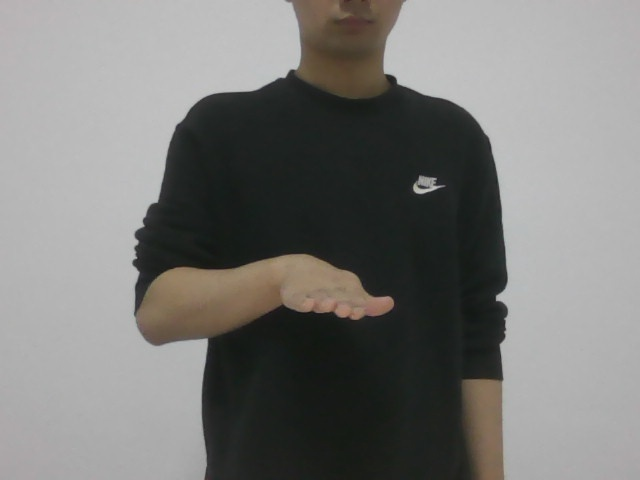slow: (271, 247, 398, 330)
